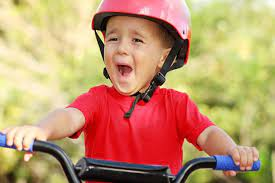helmets: (90, 0, 192, 64)
